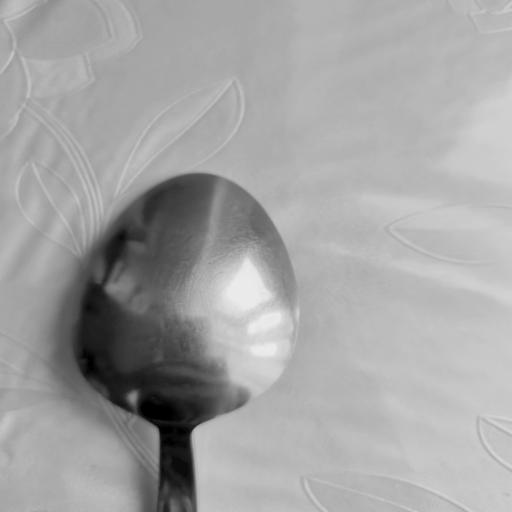spoon: (64, 164, 298, 510)
